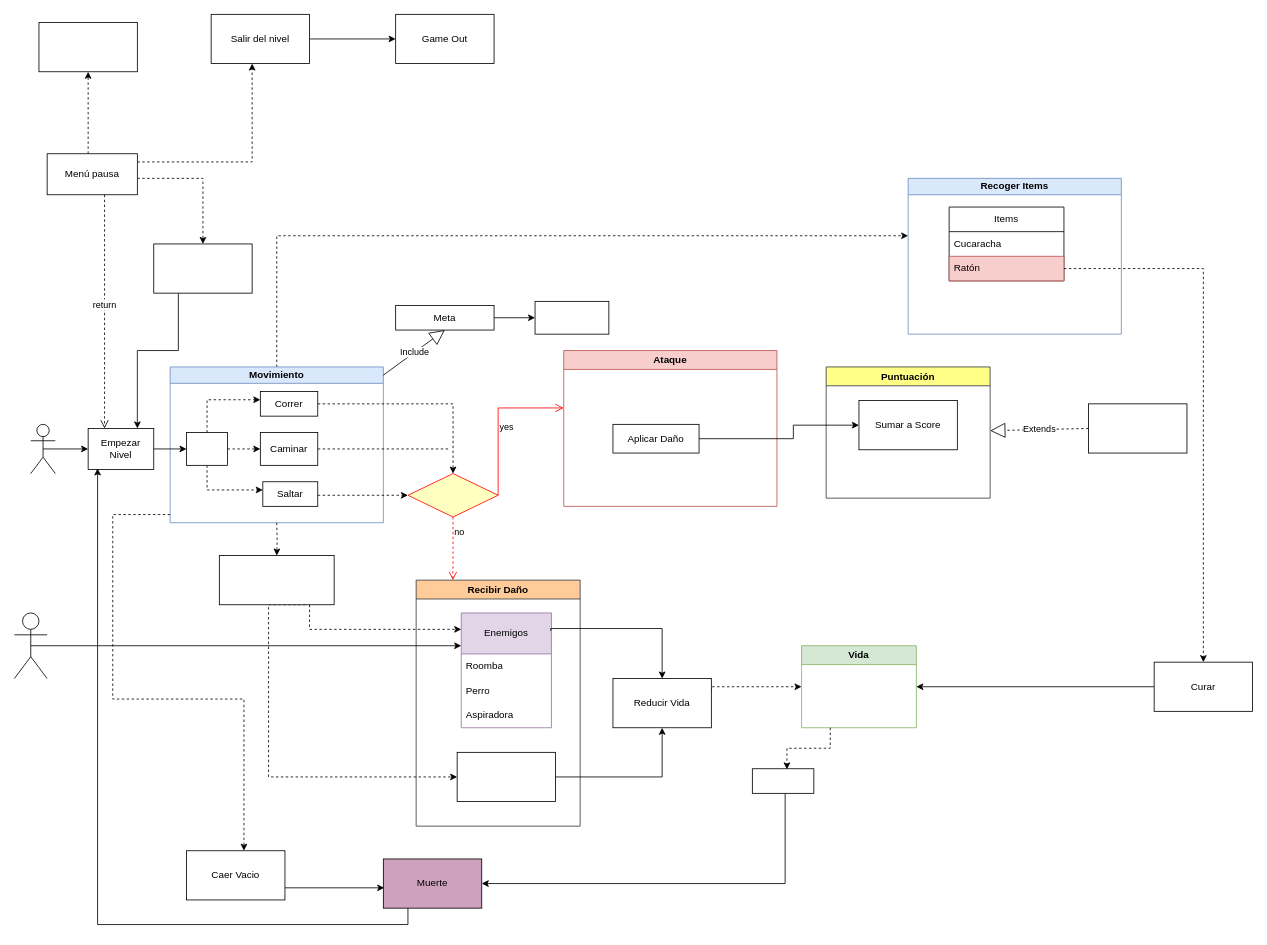
The diagram is 1267 pixels wide and 945 high, and some of its shapes have lost their labels. The centre of each missing label's shape, as x and y in pixels:
"Contacto (con objetos/enemigos/" belongs at point 276,580.
"Guardar Puntuación" belongs at point 1137,428.
"IA" belongs at point 30,645.
"Idle" belongs at point 207,448.
"Jugador (Gato)" belongs at point 42,449.
"Opciones" belongs at point 87,47.
"Resetear" belongs at point 202,268.
"Sobre Enemigo" belongs at point 452,495.
"Trampa" belongs at point 506,777.
"Victoria" belongs at point 571,317.
"Vida = 0" belongs at point 783,780.
